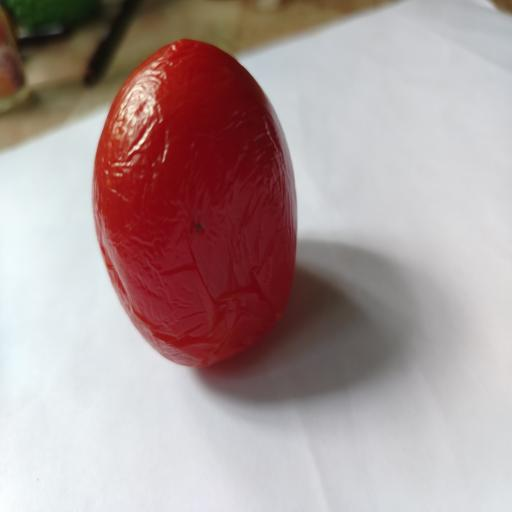spoiled: (94, 40, 296, 367)
